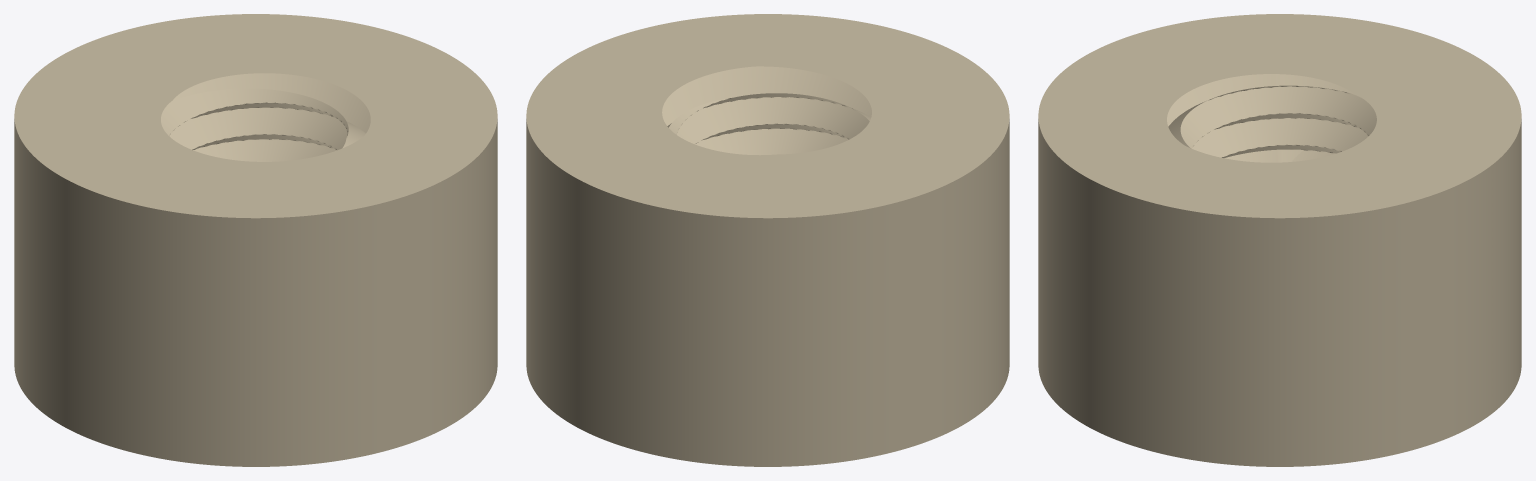
File: sm7b-spacer.glb
3 views of the same model, side by side, from view 1: azimuth 30°, elevation 25°; view 2: azimuth 150°, elevation 25°; view 3: azimuth 270°, elevation 25° (orthographic).
Parts seen in each view (by area): view 1: SM7B_spacer_with_true_3_8_16_internal_and_1_4_pilot_OD22_tot; view 2: SM7B_spacer_with_true_3_8_16_internal_and_1_4_pilot_OD22_tot; view 3: SM7B_spacer_with_true_3_8_16_internal_and_1_4_pilot_OD22_tot.
Boxes of the visible parts, box(x1,y1,x2,y2) form: SM7B_spacer_with_true_3_8_16_internal_and_1_4_pilot_OD22_tot: box(14, 14, 497, 466); SM7B_spacer_with_true_3_8_16_internal_and_1_4_pilot_OD22_tot: box(526, 14, 1009, 466); SM7B_spacer_with_true_3_8_16_internal_and_1_4_pilot_OD22_tot: box(1038, 14, 1521, 466).
Size of the model in its own units: 0.022 by 0.0125 by 0.022.
